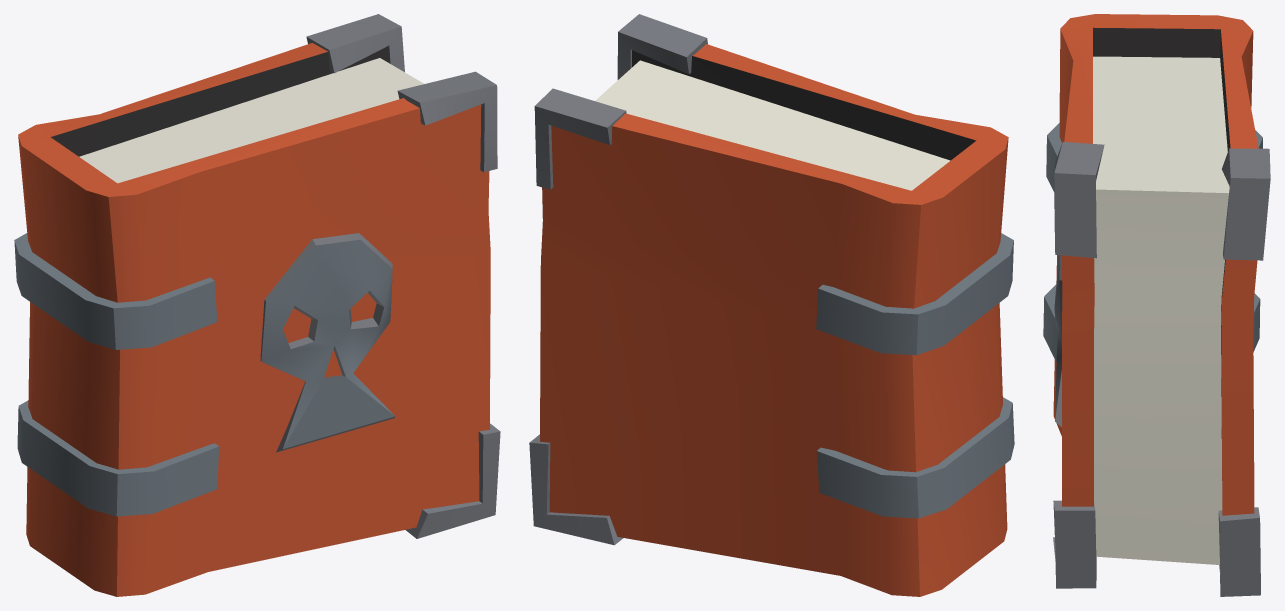
The model's file is medieval_assets_20_book.glb.
The picture shows the model from 3 angles, left to right: view 1: azimuth 30°, elevation 25°; view 2: azimuth 150°, elevation 25°; view 3: azimuth 270°, elevation 25°; orthographic projection. The views are drawn at different scales.
Visible parts, largest first — view 1: Object_2; view 2: Object_2; view 3: Object_2.
Part boxes in pixels (x1=…): Object_2: x1=14, y1=14, x2=500, y2=596; Object_2: x1=529, y1=14, x2=1014, y2=596; Object_2: x1=1043, y1=14, x2=1270, y2=596.
Bounding box in the file's own units: 0.3386 × 0.3542 × 0.172.
Materials: 1 (1 with a texture image).
